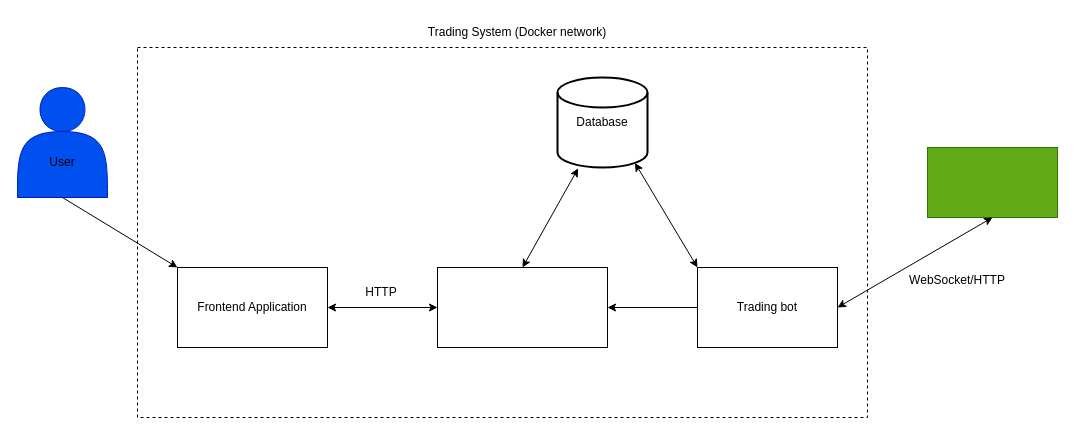
Image size: 1075x435. Some labels were removed from this diagram. Each missing label, with the centre of its shape:
"Backend API" goes at point (522, 307).
"Binance API" goes at point (992, 182).
